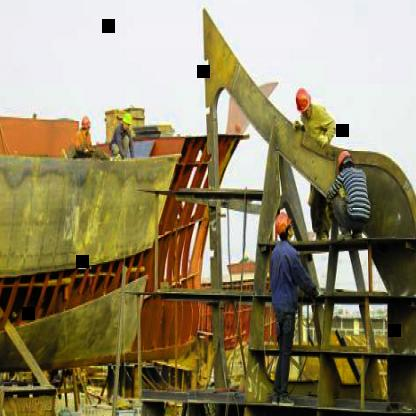helmet: (274, 214, 297, 242), (294, 89, 314, 118), (334, 150, 356, 176), (119, 111, 134, 133), (80, 114, 92, 138)
